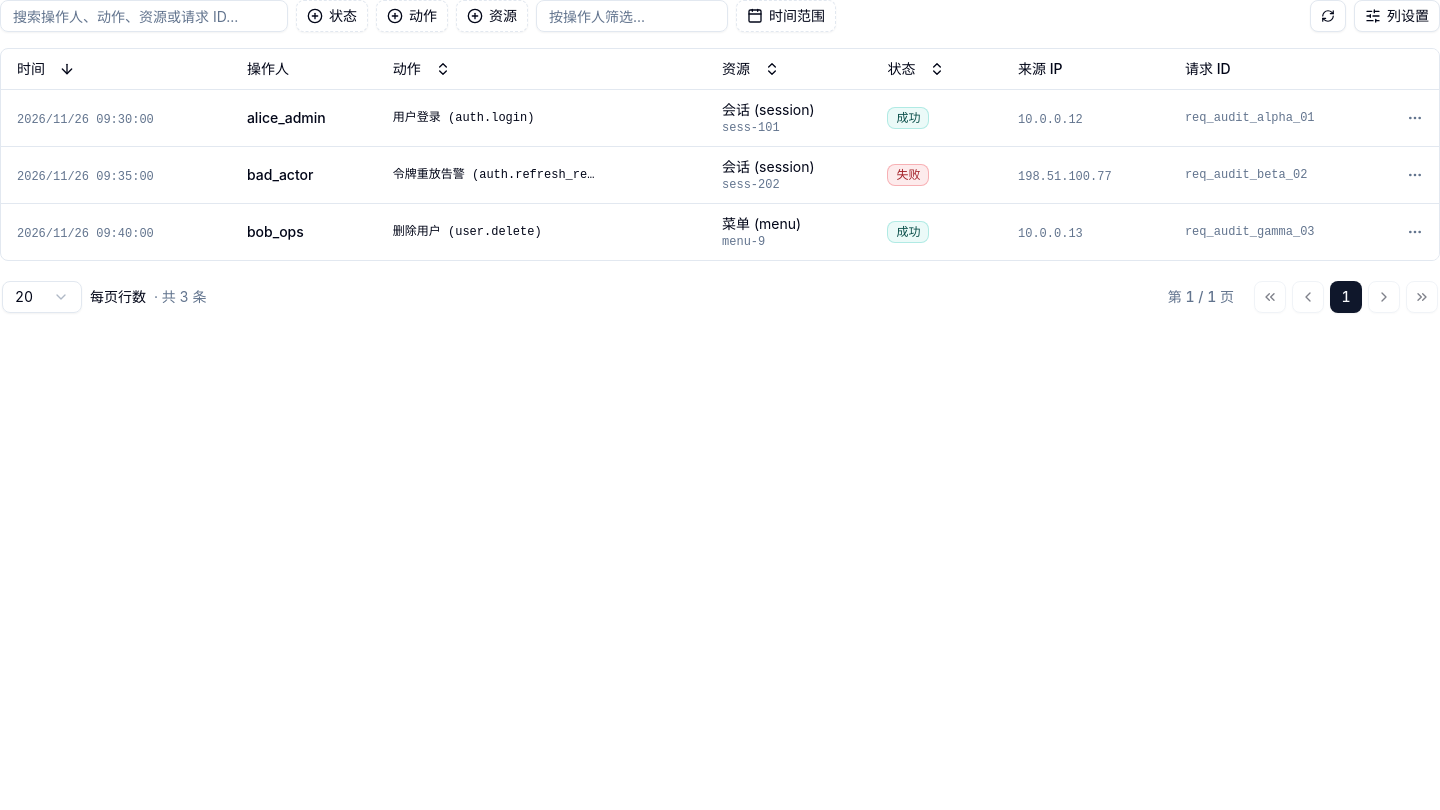
audit-logs feature › opens detail sheet when clicking a table row directly
Click the text "bad_actor": (280,174) [247,166,313,182]
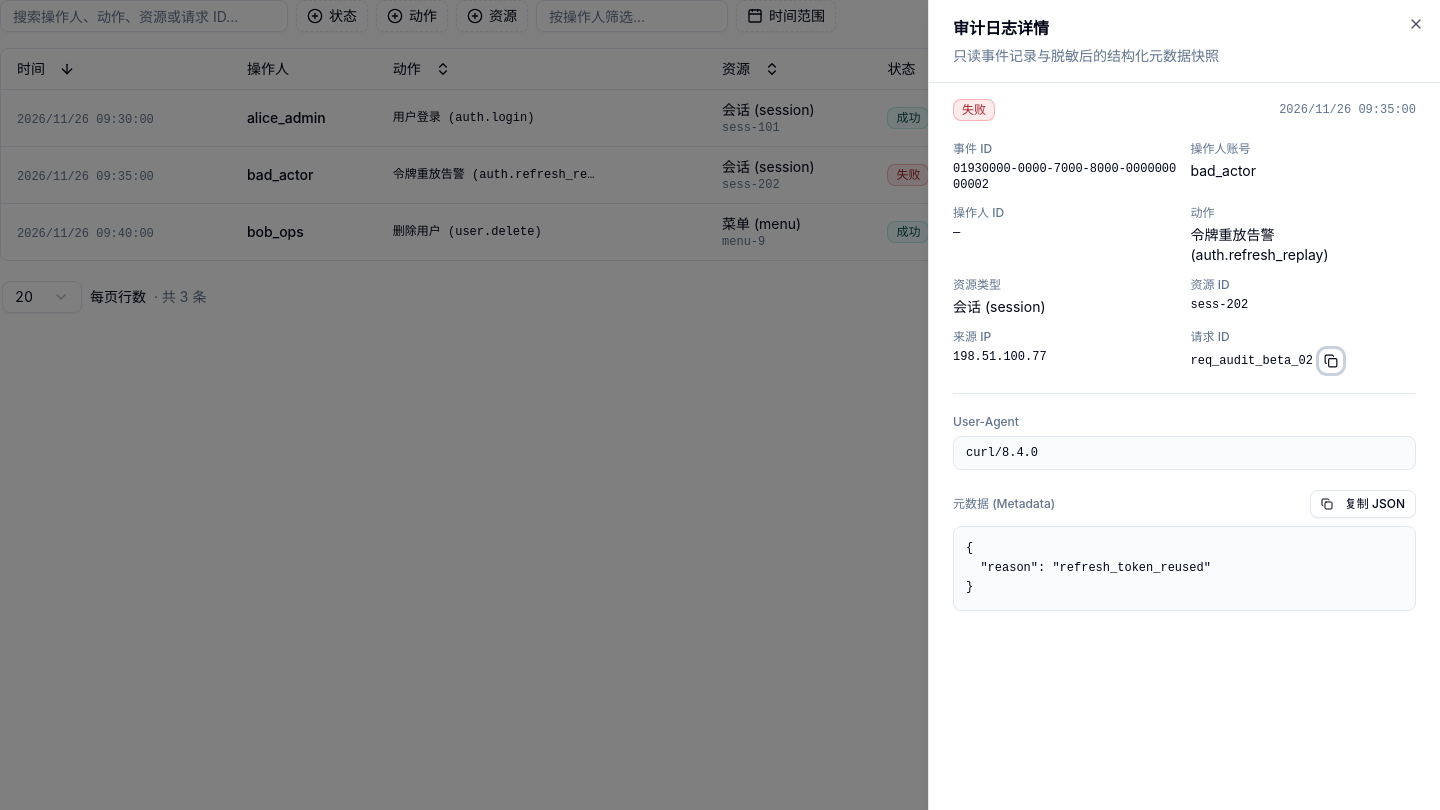
Check: the dialog is shown, box [928,0,1439,809]
Check: the dialog shows "refresh_token_reused", box [966,541,1211,594]
Check: the dialog shows "req_audit_beta_02", box [1190,354,1313,368]
